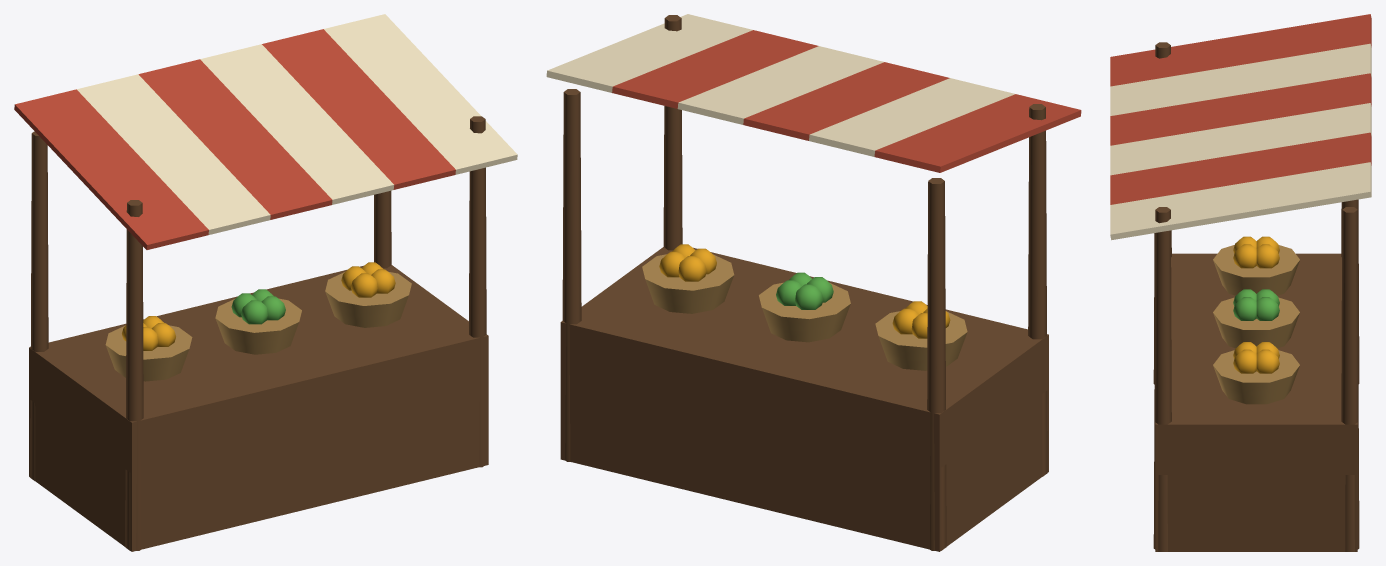
Rendered from market_stall.glb.
3 views of the same model, side by side, from view 1: azimuth 30°, elevation 25°; view 2: azimuth 150°, elevation 25°; view 3: azimuth 270°, elevation 25° (orthographic). The views are drawn at different scales.
Visible parts, largest first — view 1: market_stall_mesh; view 2: market_stall_mesh; view 3: market_stall_mesh.
Part boxes in pixels (x1,y1,x2,y2): market_stall_mesh: (14,14,517,551); market_stall_mesh: (546,14,1081,551); market_stall_mesh: (1110,14,1371,551).
Bounding box in the file's own units: 2.7 × 2.57 × 1.68.
